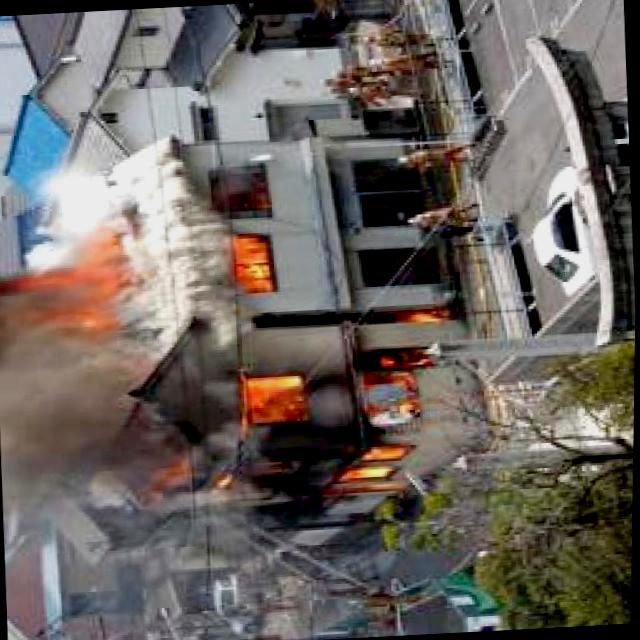helmet: (185, 302, 477, 530), (10, 222, 140, 342), (226, 228, 273, 288)
no_helmet: (0, 326, 167, 504)
